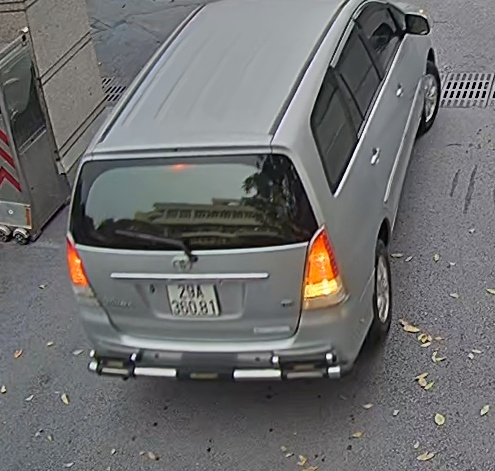vehicle plate: (161, 274, 221, 324)
